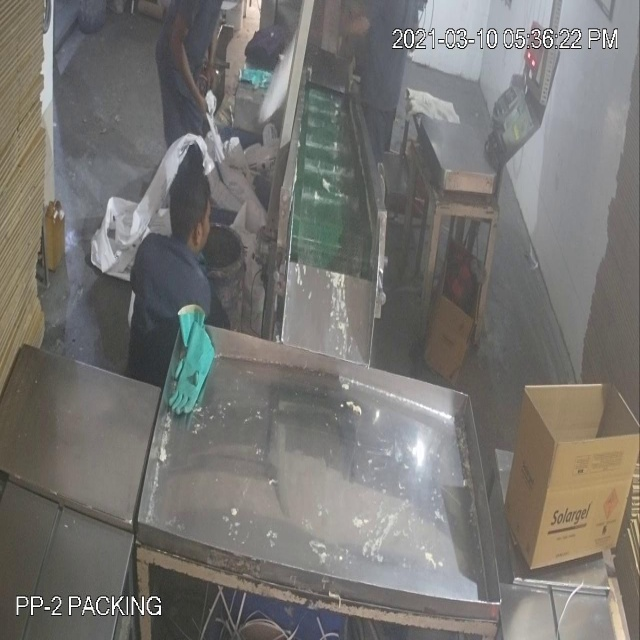Sin_guantes: (163, 6, 214, 120)
